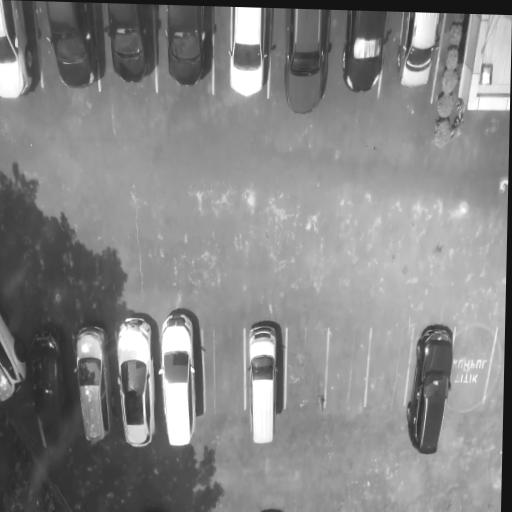Car: (404, 327, 458, 460), (114, 313, 161, 452), (159, 308, 202, 446), (70, 318, 115, 449), (24, 322, 69, 451), (39, 1, 104, 90), (283, 8, 328, 118), (245, 319, 280, 449), (0, 0, 41, 104), (340, 10, 387, 92), (102, 3, 150, 83), (395, 12, 443, 91), (227, 7, 268, 99), (165, 5, 208, 87), (0, 309, 32, 413), (258, 510, 285, 512)
Space Available: (369, 322, 413, 409), (327, 324, 369, 415), (202, 325, 245, 412), (286, 324, 328, 412), (450, 330, 495, 401), (432, 507, 469, 512), (394, 511, 433, 512)
